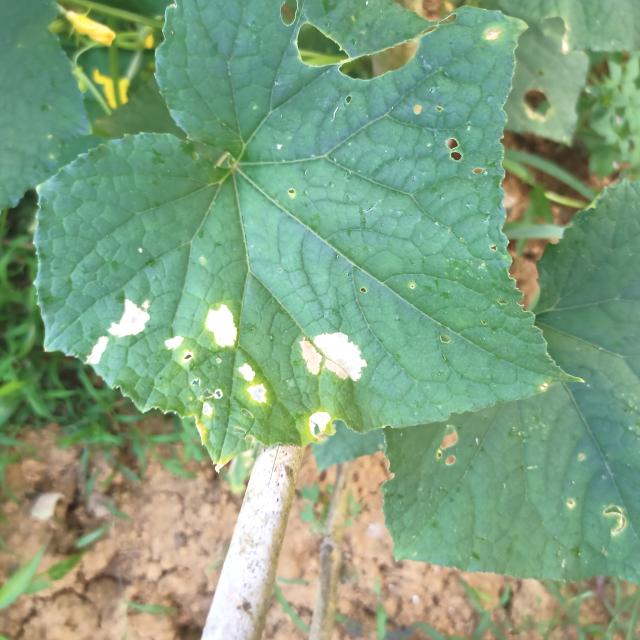disease_cucumber: (160, 301, 275, 418), (293, 320, 375, 388), (82, 293, 155, 365), (299, 403, 336, 440)
